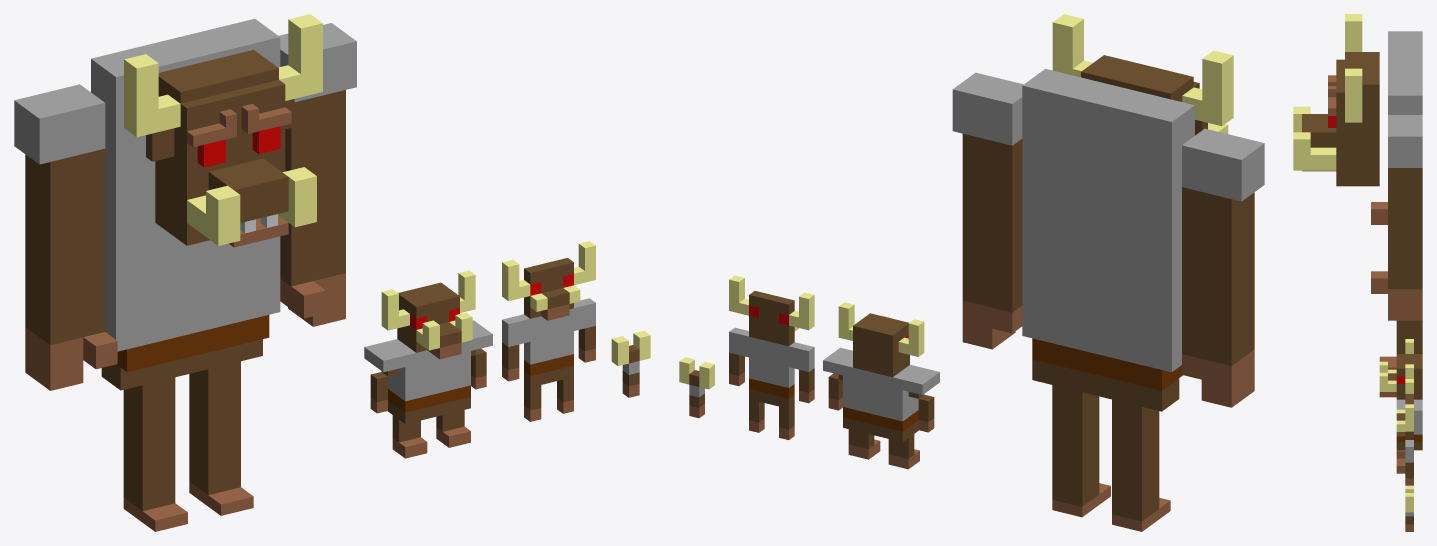
The model's file is trolloc_boar.glb.
3 views of the same model, side by side, from view 1: azimuth 30°, elevation 25°; view 2: azimuth 150°, elevation 25°; view 3: azimuth 270°, elevation 25° (orthographic). The views are drawn at different scales.
Parts seen in each view (by area): view 1: pl0; view 2: pl0; view 3: pl0.
Boxes of the visible parts, x1,y1,x2,y2 form: pl0: (14,14,650,531); pl0: (679,14,1264,531); pl0: (1293,14,1422,531).
Bounding box in the file's own units: 57 × 43 × 15.
1 material, 1 textured.
